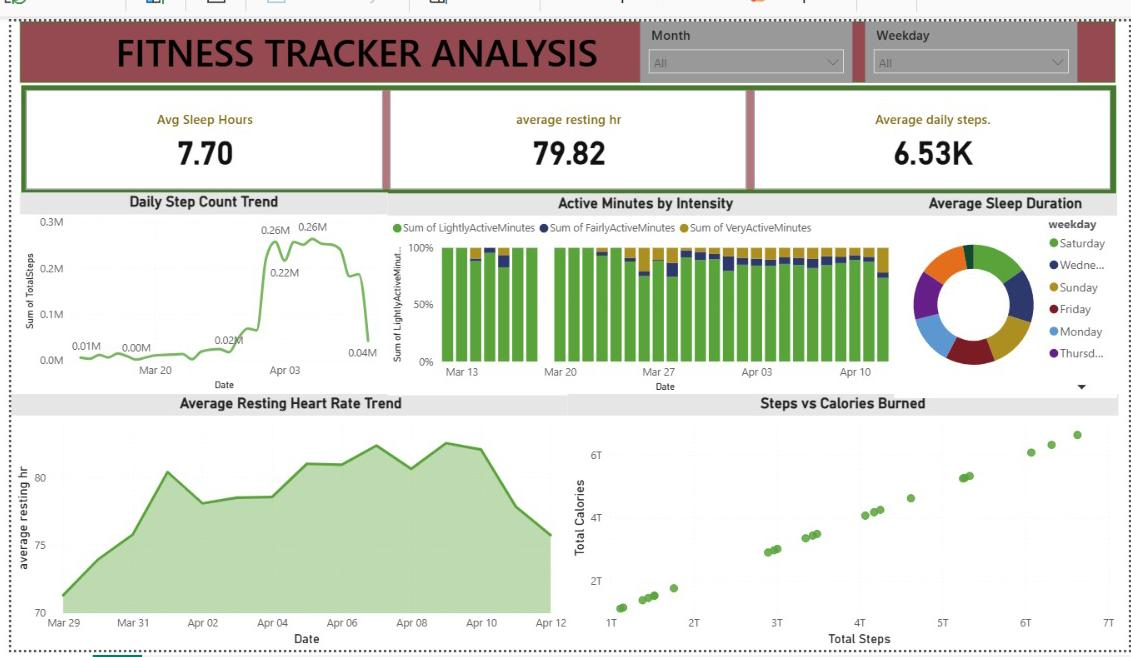

The page's visual inventory and layout, read from the dashboard file:
{"tool":"powerbi","page":{"name":"Page 1","canvas":[1280,720],"ordinal":0},"visuals":[{"type":"shape","box":[10,0,1255,70],"z":0},{"type":"textbox","box":[115.3,0,580.2,69.9],"z":1000},{"type":"cardVisual","fields":{"Data":["minuteSleep_merged.Avg Sleep Hours","heartrate_seconds_merged.average resting hr","hourlySteps_merged.Average daily steps."]},"box":[11.1,73.2,1255,124.1],"z":2000},{"type":"lineChart","title":"Daily Step Count Trend","fields":{"Category":["DateTable.Date"],"Y":["Sum(dailyActivity_merged.TotalSteps)"]},"box":[9.4,196.5,421.4,230.6],"z":3000},{"type":"areaChart","title":"Average Resting Heart Rate Trend","fields":{"Category":["DateTable.Date"],"Y":["heartrate_seconds_merged.average resting hr"]},"box":[0,427.1,640.6,292.9],"z":4000},{"type":"hundredPercentStackedColumnChart","title":"Active Minutes by Intensity","fields":{"Category":["DateTable.Date"],"Y":["Sum(dailyActivity_merged.LightlyActiveMinutes)","Sum(dailyActivity_merged.FairlyActiveMinutes)","Sum(dailyActivity_merged.VeryActiveMinutes)"]},"box":[431.1,197.2,591.7,230.6],"z":5000},{"type":"scatterChart","title":"Steps vs Calories Burned","fields":{"X":["minuteStepsNarrow_merged.Total Steps"],"Y":["minuteCaloriesNarrow_merged.Total Calories"],"Category":["minuteStepsNarrow_merged.Id"]},"box":[636.9,427.1,631.2,292.9],"z":6000},{"type":"slicer","fields":{"Values":["DateTable.month"]},"box":[720.5,0,243.4,70],"z":7000},{"type":"slicer","fields":{"Values":["DateTable.weekday"]},"box":[978.2,0,243.4,70],"z":8000},{"type":"donutChart","title":"Average Sleep Duration","fields":{"Y":["minuteSleep_merged.Avg Sleep Hours"],"Category":["DateTable.weekday"]},"box":[1011.6,197.2,256.1,233.8],"z":8001}]}

Visuals, with their boxes in screenshot pixels (x1, y1, x2, y2):
shape: (15, 18, 1108, 79)
textbox: (106, 18, 612, 79)
cardVisual - minuteSleep_merged.Avg Sleep Hours x heartrate_seconds_merged.average resting hr: (16, 81, 1109, 190)
"Daily Step Count Trend" lineChart: (14, 189, 381, 390)
"Average Resting Heart Rate Trend" areaChart: (6, 390, 564, 645)
"Active Minutes by Intensity" hundredPercentStackedColumnChart: (382, 190, 897, 390)
"Steps vs Calories Burned" scatterChart: (561, 390, 1111, 645)
slicer - DateTable.month: (634, 18, 846, 79)
slicer - DateTable.weekday: (858, 18, 1070, 79)
"Average Sleep Duration" donutChart: (887, 190, 1111, 393)
